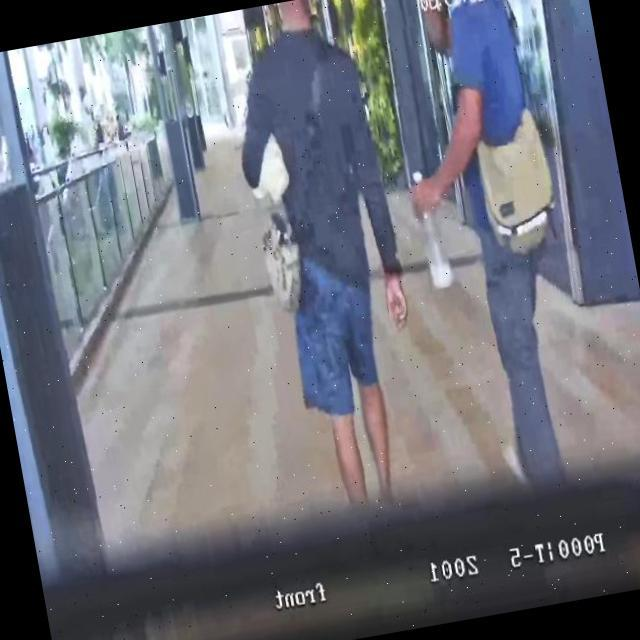person: (214, 0, 442, 519), (371, 0, 604, 502)
